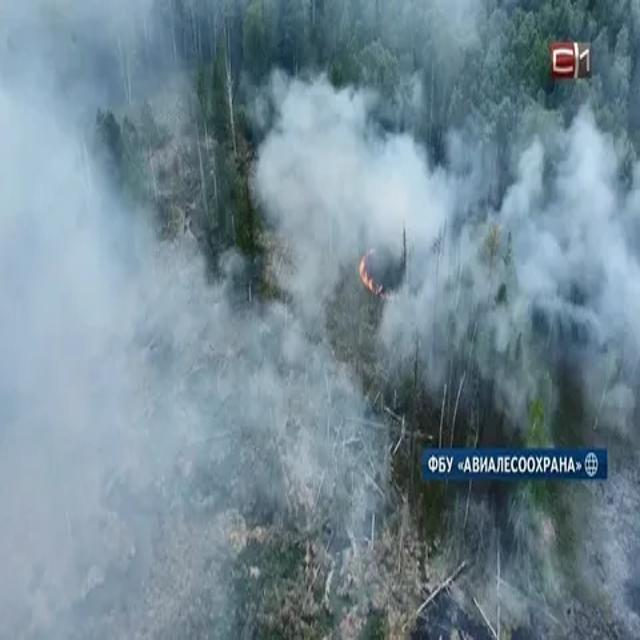Smoke: (250, 80, 482, 311), (496, 134, 640, 393)
